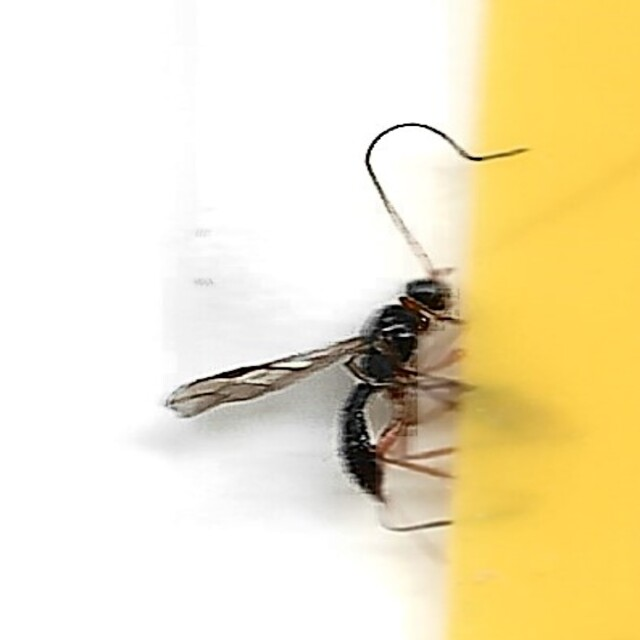Hymenoptera: (161, 121, 479, 519)
